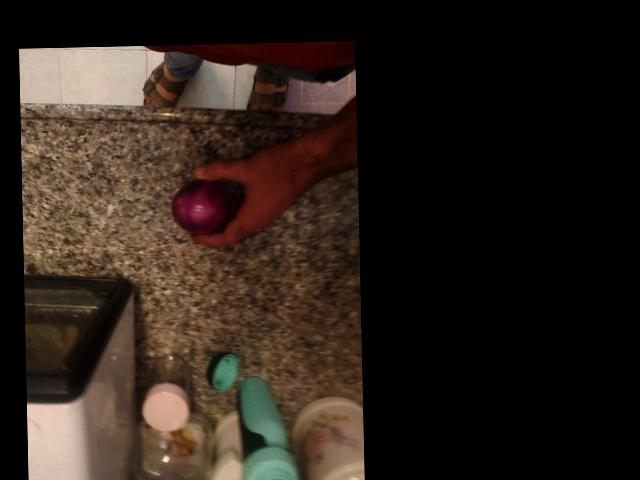onion: (42, 279, 107, 340)
